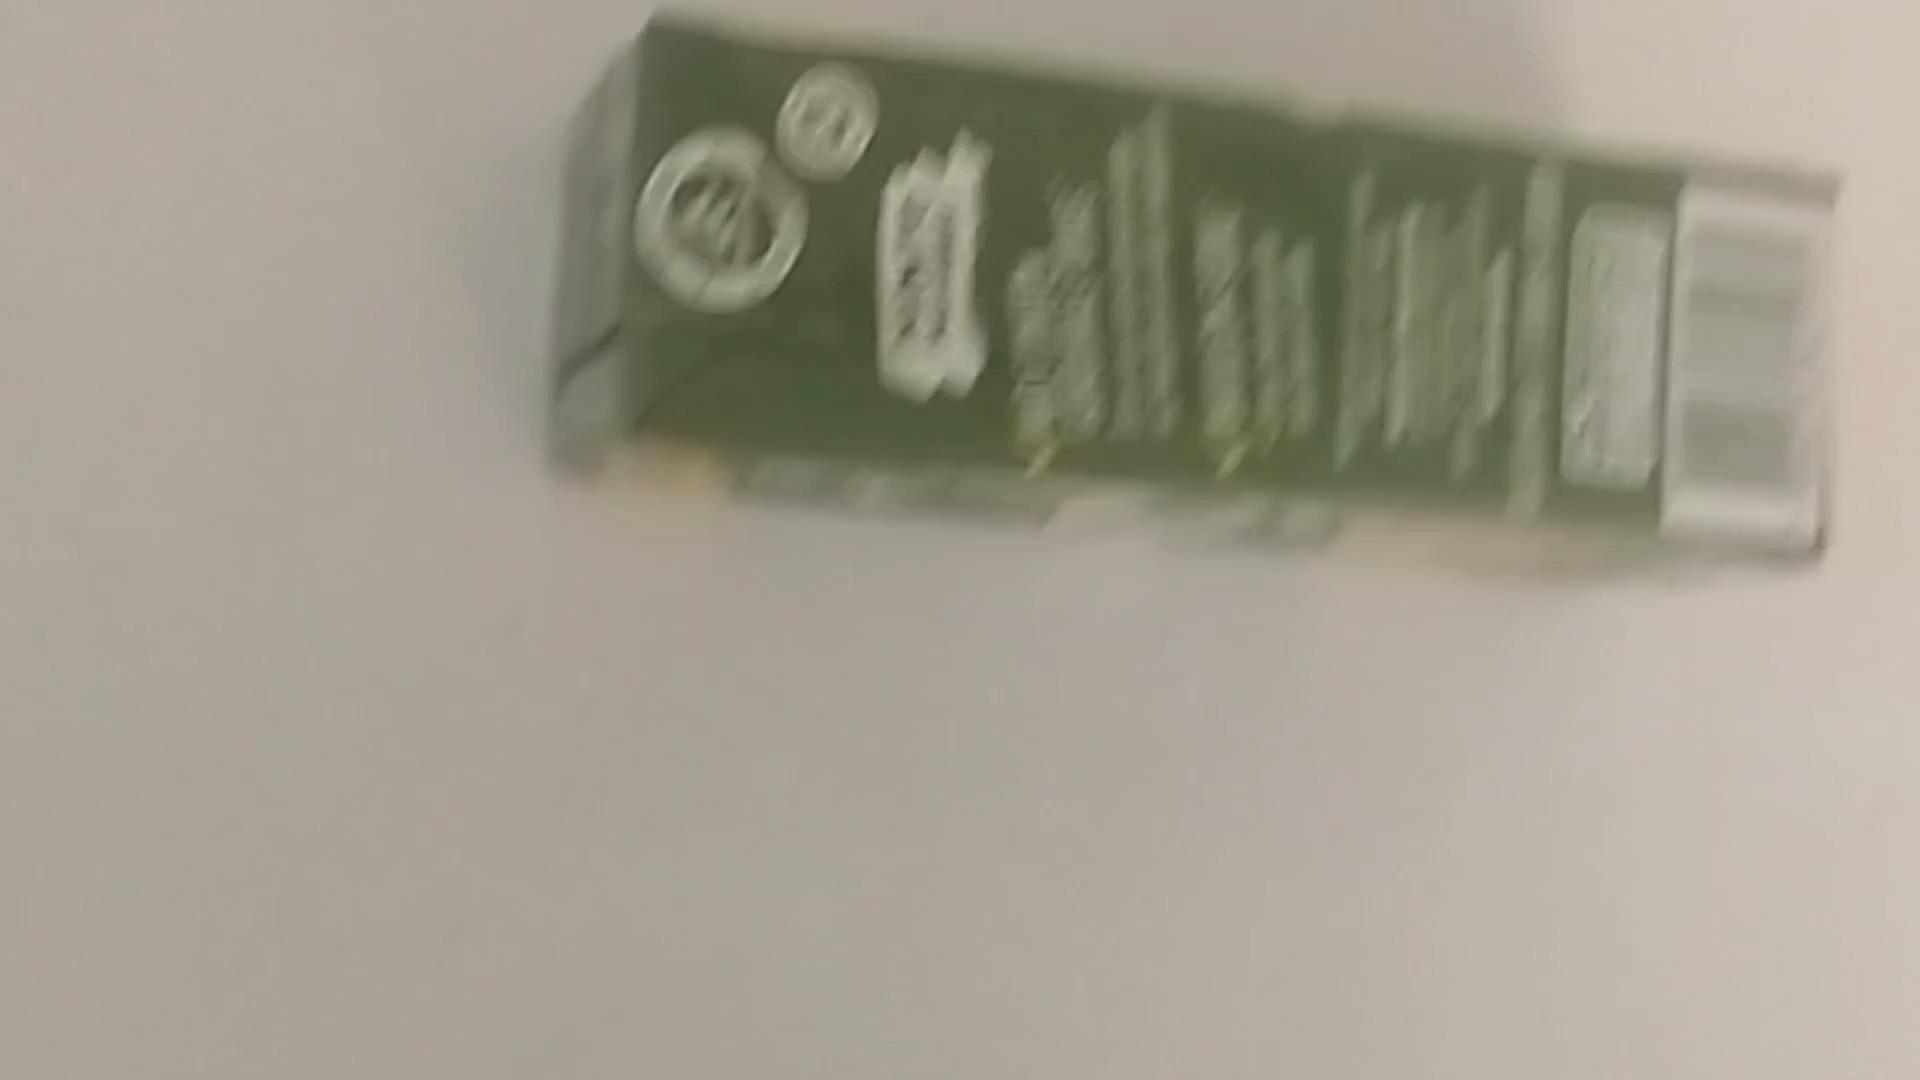coco: (558, 11, 1862, 585)
